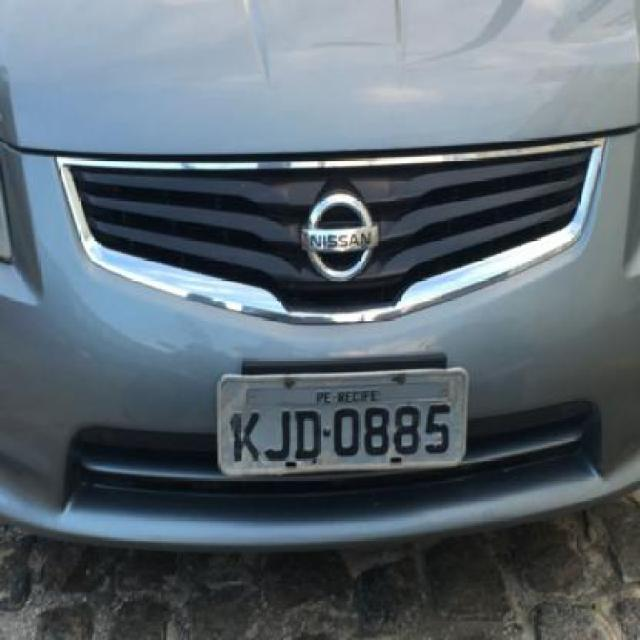old_plate: (209, 363, 477, 488)
